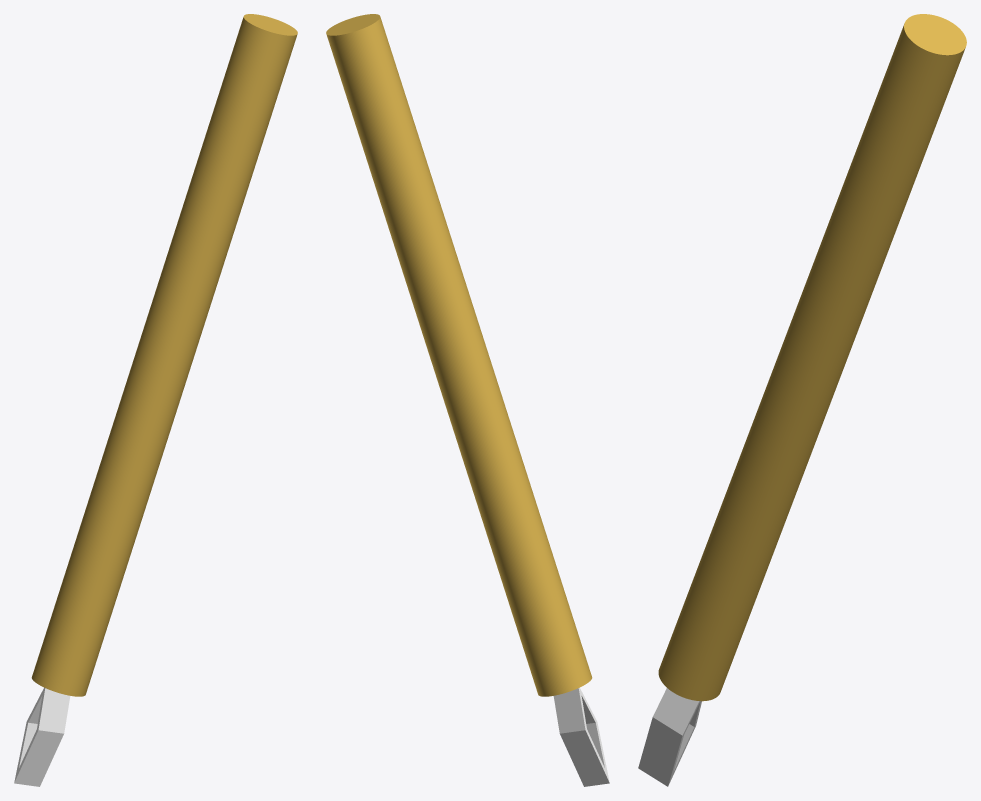
File: pen_2.glb
The picture shows the model from 3 angles, left to right: view 1: azimuth 30°, elevation 25°; view 2: azimuth 150°, elevation 25°; view 3: azimuth 330°, elevation 25°; orthographic projection. The views are drawn at different scales.
Visible parts, largest first — view 1: Node2, Node1; view 2: Node2, Node3; view 3: Node2, Node1.
Part boxes in pixels (x1,y1,x2,y2): Node2: (31, 14, 297, 696); Node1: (14, 688, 70, 786); Node2: (326, 14, 592, 696); Node3: (553, 687, 609, 786); Node2: (658, 14, 966, 701); Node1: (638, 688, 700, 786).
Size of the model in its own units: 64.29 by 157 by 11.3.
